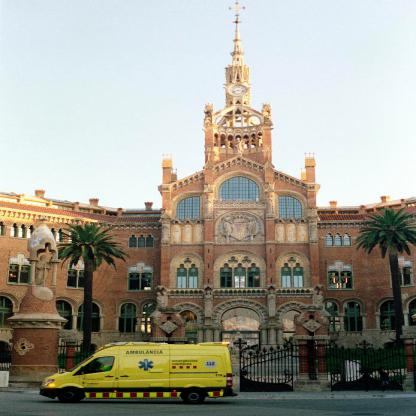Ambulance: (39, 345, 237, 404)
